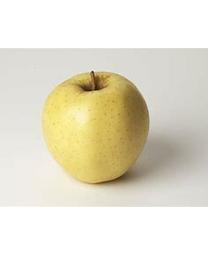apple: (40, 70, 149, 183)
